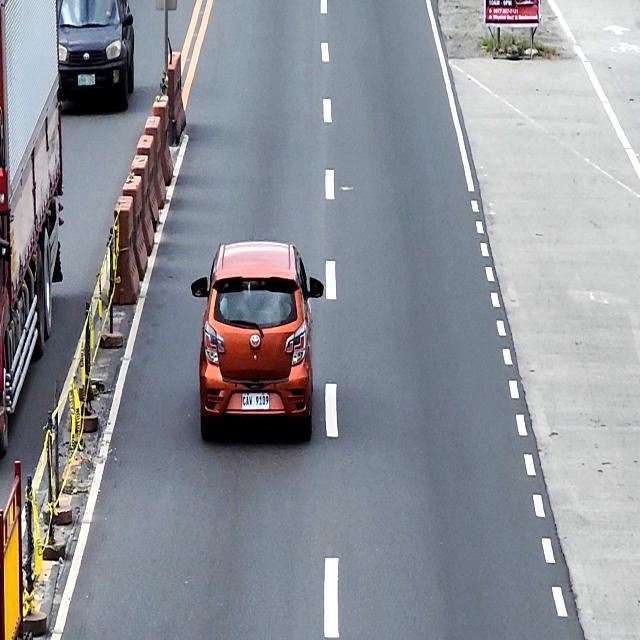Car: (190, 240, 324, 439), (56, 0, 134, 110)
License-Plate: (241, 392, 269, 410), (78, 72, 96, 87)
Truck: (0, 0, 65, 457)
